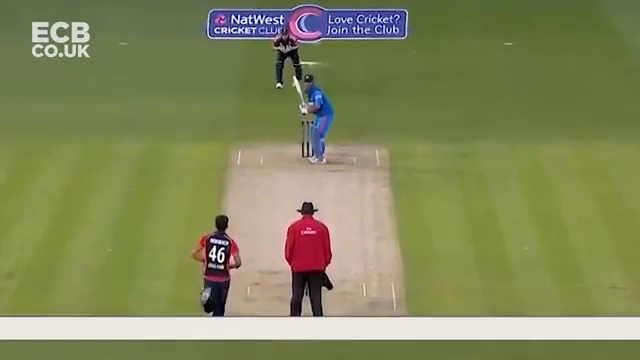Bowler: (188, 216, 243, 317)
Keeper: (271, 27, 305, 87)
Umpire: (285, 201, 333, 319)
batsman: (290, 72, 334, 164)
